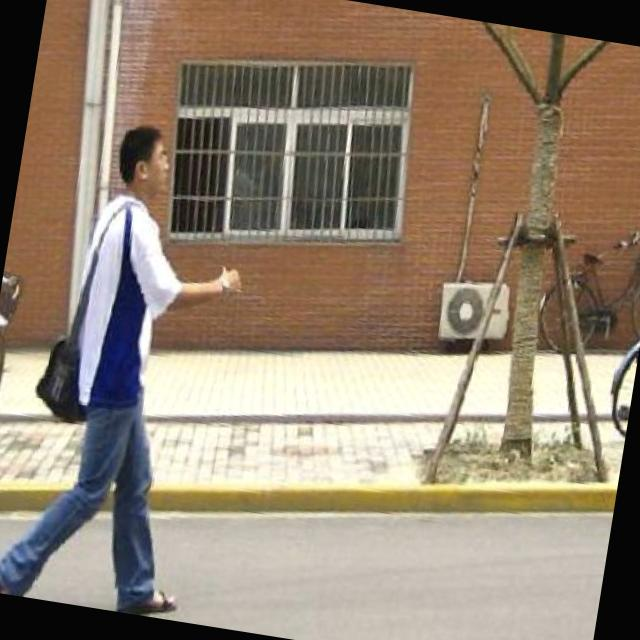Person: (0, 104, 281, 624)
